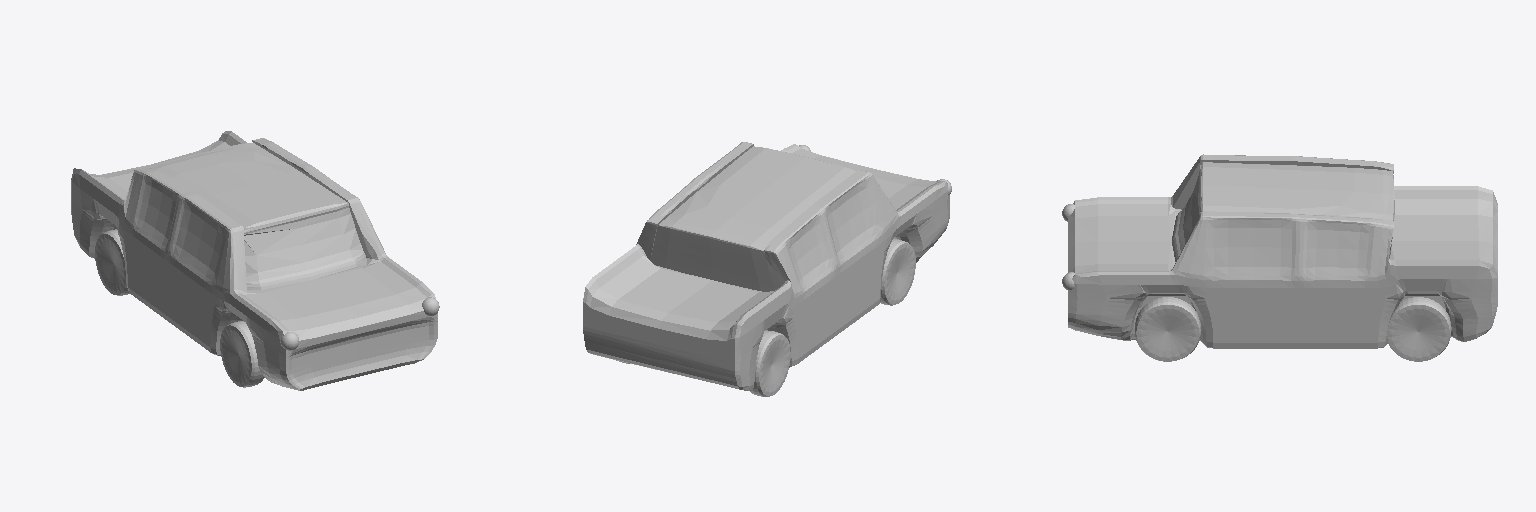
Rendered from car.obj.
3 renders of one model, left to right at view 1: azimuth 30°, elevation 25°; view 2: azimuth 150°, elevation 25°; view 3: azimuth 270°, elevation 25°, orthographic.
Visible parts, largest first — view 1: group2_pasted__pCylinder1; view 2: group2_pasted__pCylinder1; view 3: group2_pasted__pCylinder1.
Part boxes in pixels (bbox=[...]): group2_pasted__pCylinder1: bbox=[71, 131, 439, 390]; group2_pasted__pCylinder1: bbox=[583, 142, 951, 396]; group2_pasted__pCylinder1: bbox=[1062, 154, 1497, 361].
Bounding box in the file's own units: 5.4 × 4.62 × 12.9.